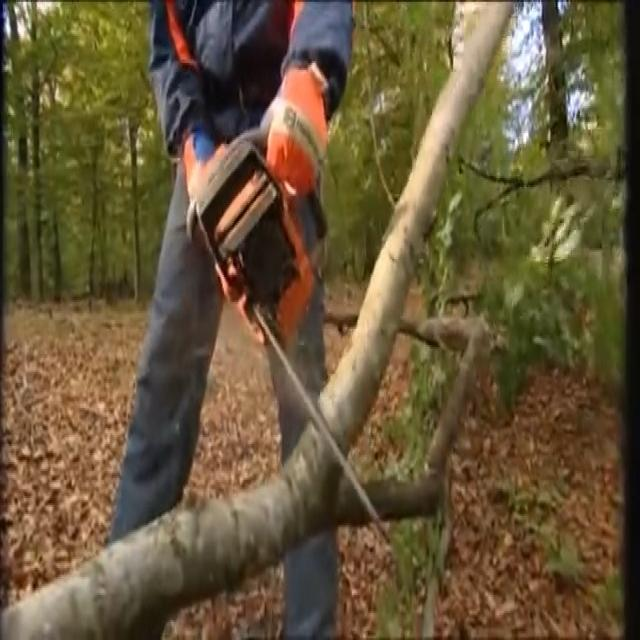Chainsaw: (160, 148, 406, 556)
